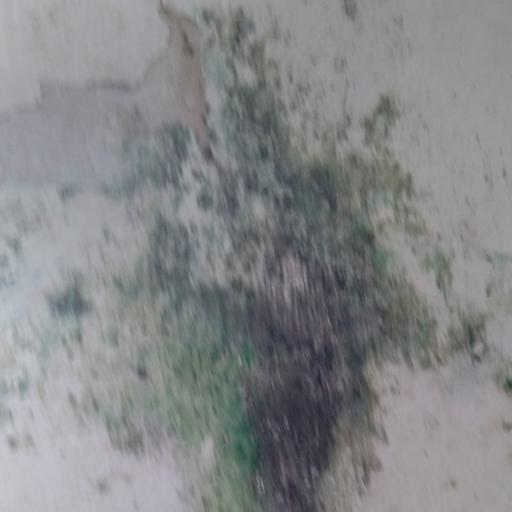algae: (69, 63, 476, 512)
